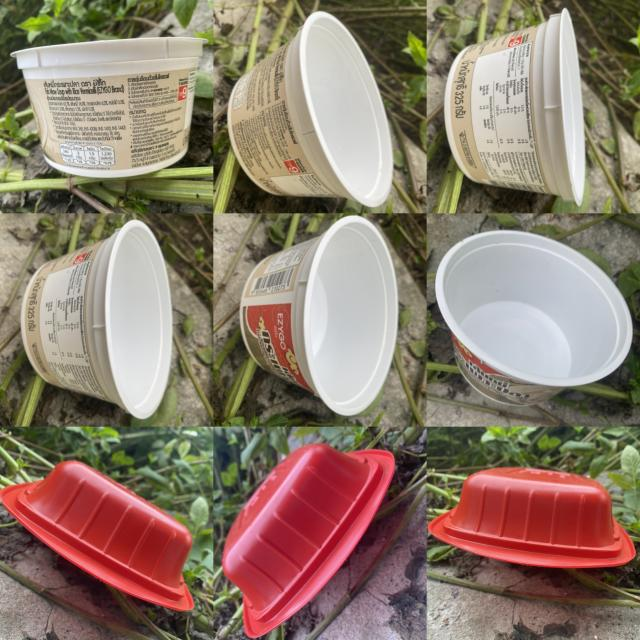Single-Use-Plastic: (435, 230, 632, 404), (222, 444, 395, 638), (228, 11, 392, 206), (240, 216, 398, 416), (21, 220, 172, 418), (0, 461, 194, 611), (444, 9, 585, 205), (11, 38, 205, 178), (428, 468, 635, 568)
